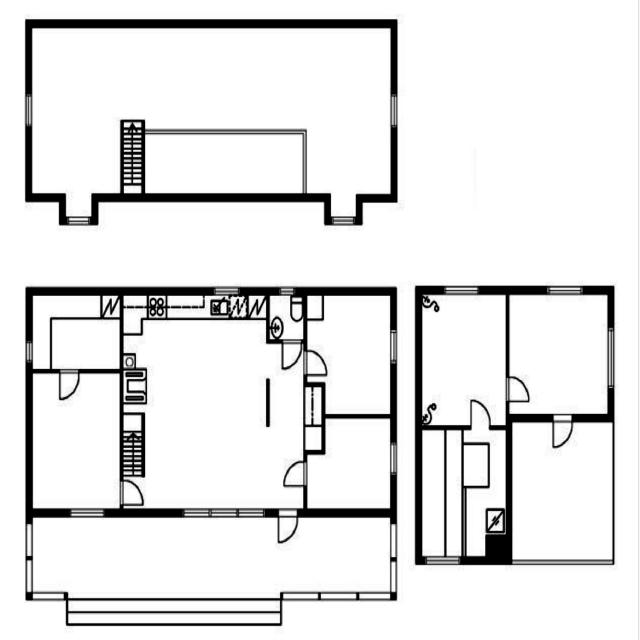door: (501, 371, 533, 406), (276, 336, 305, 374), (302, 345, 331, 380), (466, 396, 495, 430), (275, 507, 301, 544), (550, 412, 574, 451), (281, 457, 310, 489), (57, 367, 81, 403), (118, 477, 146, 507)
window: (180, 503, 266, 521), (603, 322, 618, 392), (387, 518, 400, 588), (540, 280, 586, 299), (438, 280, 482, 298), (23, 525, 34, 591), (66, 504, 109, 520), (387, 89, 401, 131), (22, 89, 36, 130), (209, 282, 244, 298), (329, 212, 357, 232), (387, 438, 400, 480), (387, 325, 400, 367), (423, 552, 460, 566), (64, 211, 92, 228), (276, 283, 298, 299), (24, 337, 34, 364)
zone: (120, 299, 288, 514), (30, 370, 130, 510), (508, 289, 612, 418), (420, 288, 508, 428), (306, 291, 393, 415), (306, 415, 394, 513), (31, 294, 121, 370), (460, 429, 508, 549), (422, 432, 462, 556), (268, 292, 308, 343)
